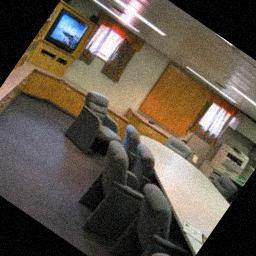Electrodomestico: (208, 141, 253, 184)
